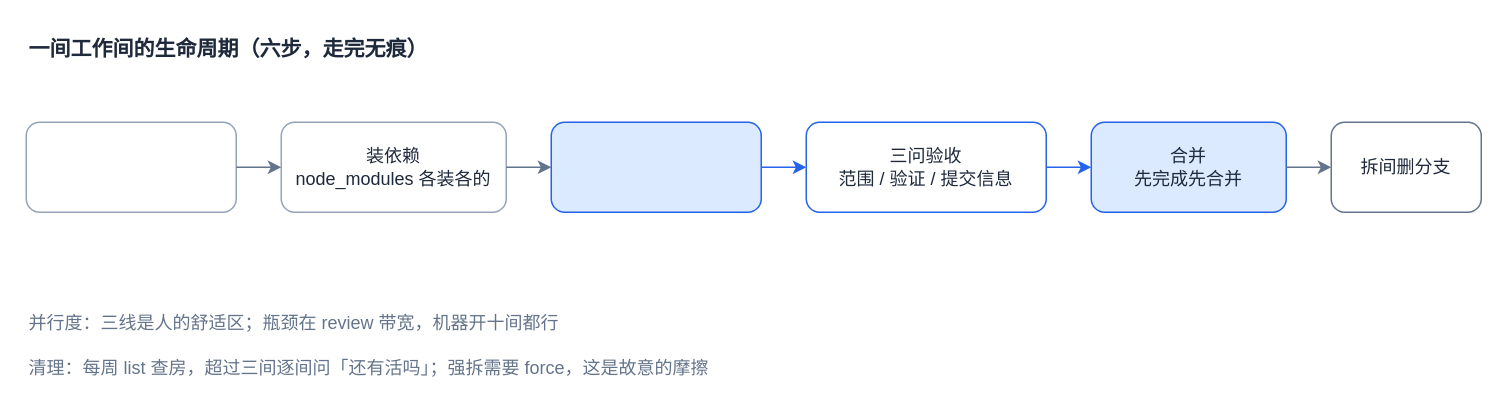
Image size: 1508x404. Some labels were removed from this diagram. The shapes that lost their labels are listed below. From the top down, each one's centre as x and y in pixels, then its label:
At point 130,166: "开间 add + 新分支".
At point 655,166: "AI 干活 边界清楚的活".
